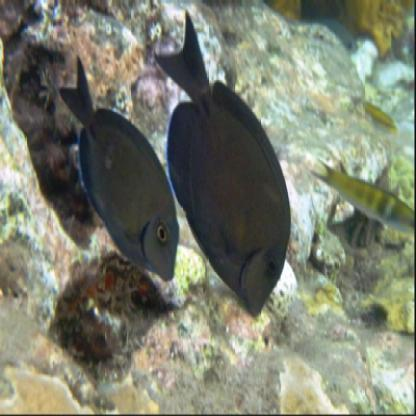Bio: (152, 6, 292, 318), (56, 52, 179, 283)
